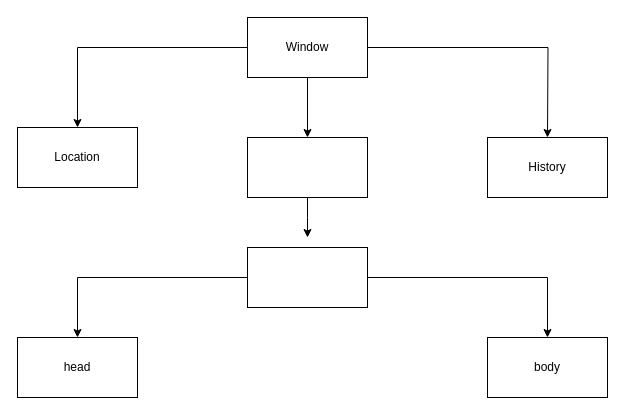
Image size: 625x415. Some labels were removed from this diagram. The shapes that lost their labels are listed below. From the top down, each one's box as (x1, y1, x2, y2) in pixels, then its label:
(246, 136, 368, 198): Document
(246, 246, 368, 308): html
